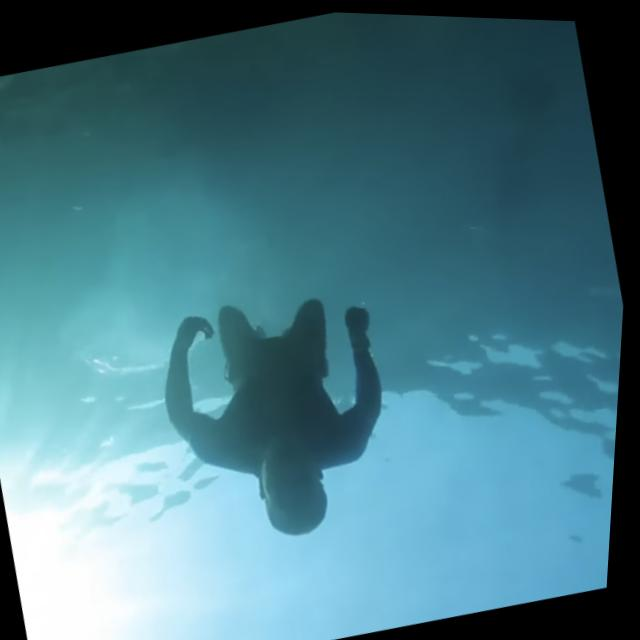human: (137, 259, 432, 569)
